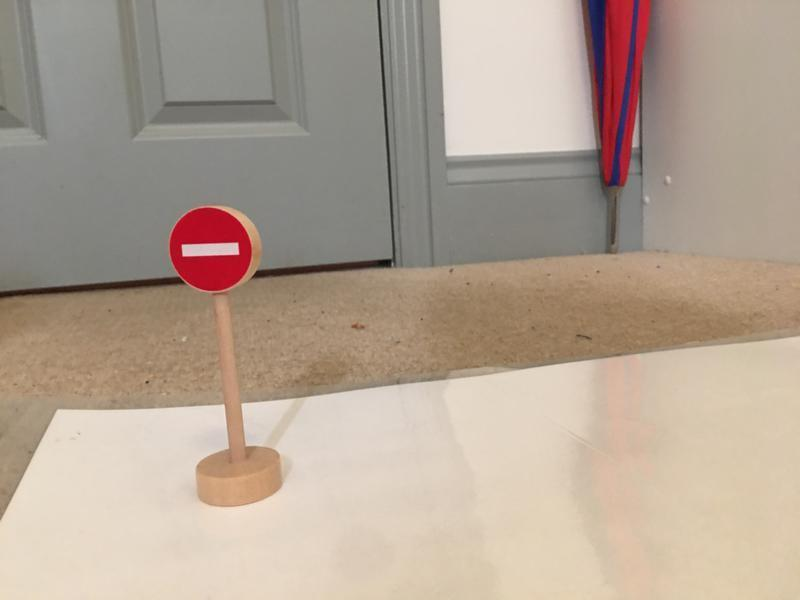Traffic_Sign_No_Entry: (167, 208, 256, 293)
